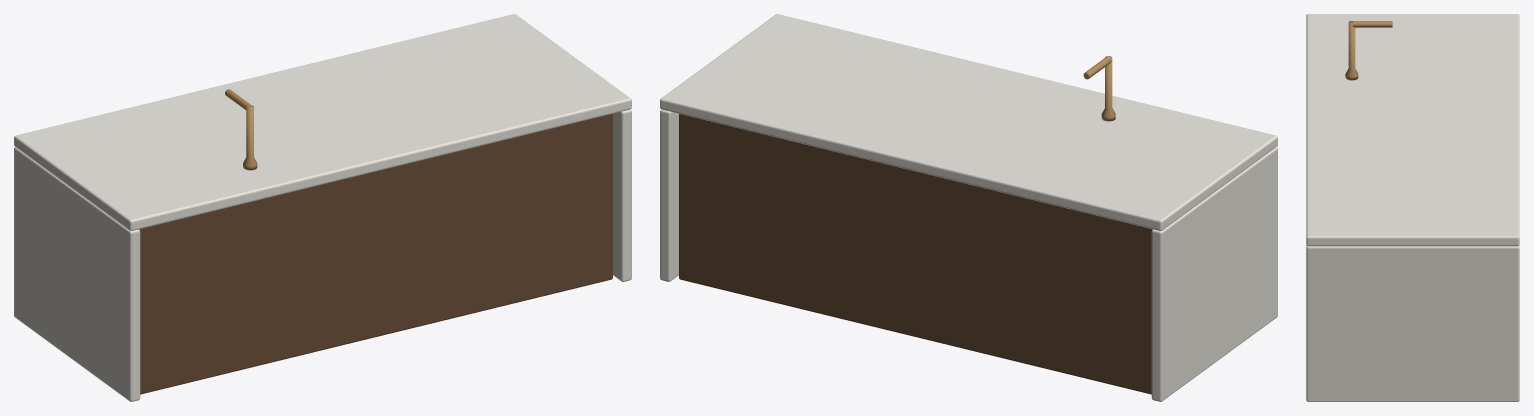
Rendered from kitchen-island.glb.
The picture shows the model from 3 angles, left to right: view 1: azimuth 30°, elevation 25°; view 2: azimuth 150°, elevation 25°; view 3: azimuth 270°, elevation 25°; orthographic projection. The views are drawn at different scales.
Parts seen in each view (by area): view 1: island_body, island_top, island_fall_l, island_fall_r, island_tap; view 2: island_body, island_top, island_fall_l, island_fall_r, island_tap; view 3: island_top, island_fall_r, island_tap, island_spout.
Part boxes in pixels (box(x1,y1,x2,y2)): island_body: box(139, 114, 612, 394); island_top: box(14, 14, 631, 230); island_fall_l: box(14, 147, 140, 401); island_fall_r: box(613, 109, 631, 281); island_tap: box(243, 105, 257, 170); island_body: box(679, 114, 1152, 394); island_top: box(660, 14, 1277, 230); island_fall_l: box(1151, 147, 1277, 401); island_fall_r: box(660, 109, 678, 281); island_tap: box(1101, 56, 1115, 121); island_top: box(1306, 14, 1519, 246); island_fall_r: box(1306, 245, 1519, 401); island_tap: box(1345, 21, 1358, 80); island_spout: box(1352, 21, 1392, 27).
Bounding box in the file's own units: 2.6 × 1.21 × 1.05.
